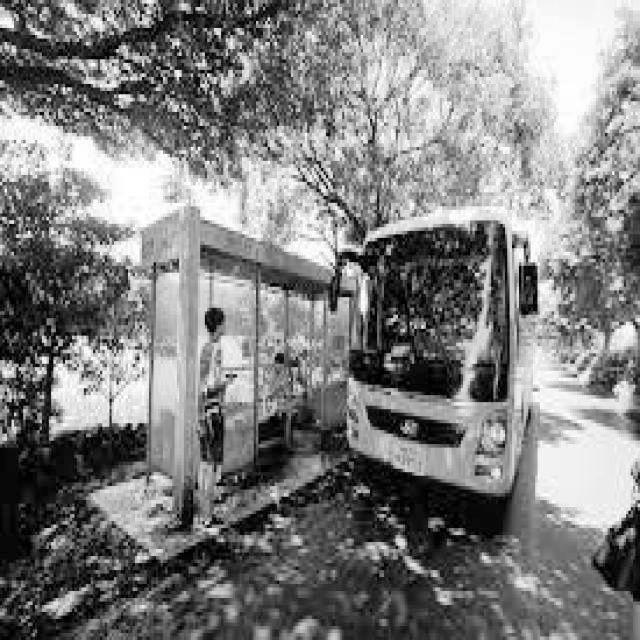Bus: (321, 191, 545, 518)
